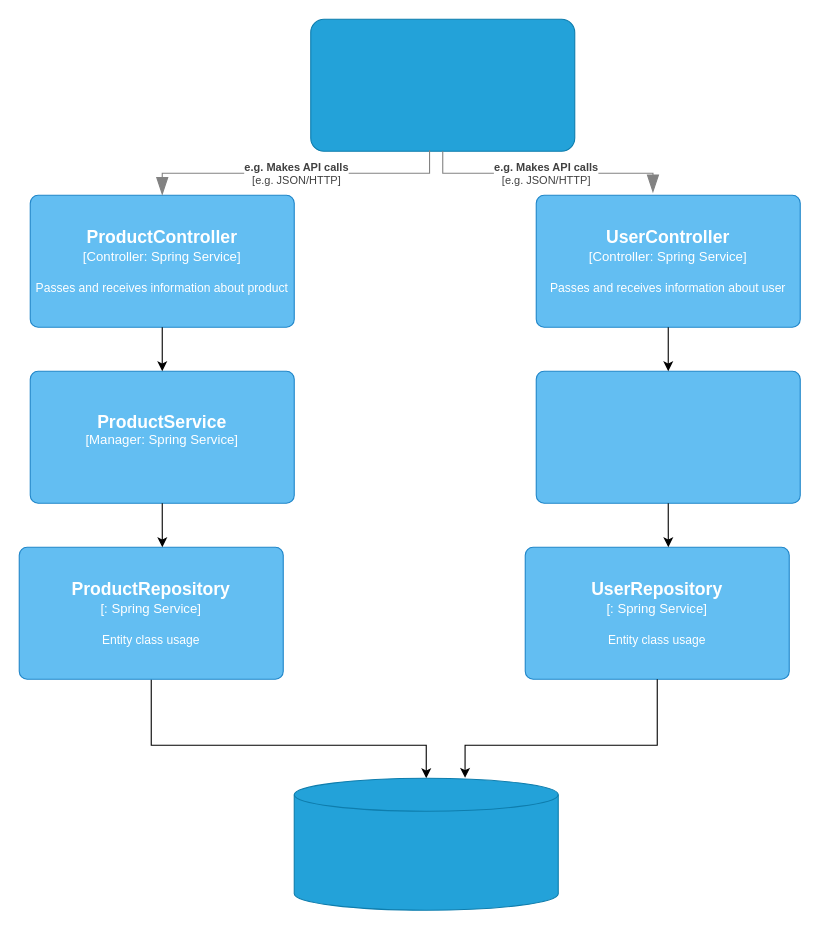
This 820x930 diagram has some shape labels left out. The shapes that lost their labels are listed below. From the top down, each one's centre as x and y in pixels, then its label:
(x=442, y=84): Front end [: React]
(x=667, y=436): UserService [Manager: Spring Service]
(x=425, y=843): [Database: MySQL]
